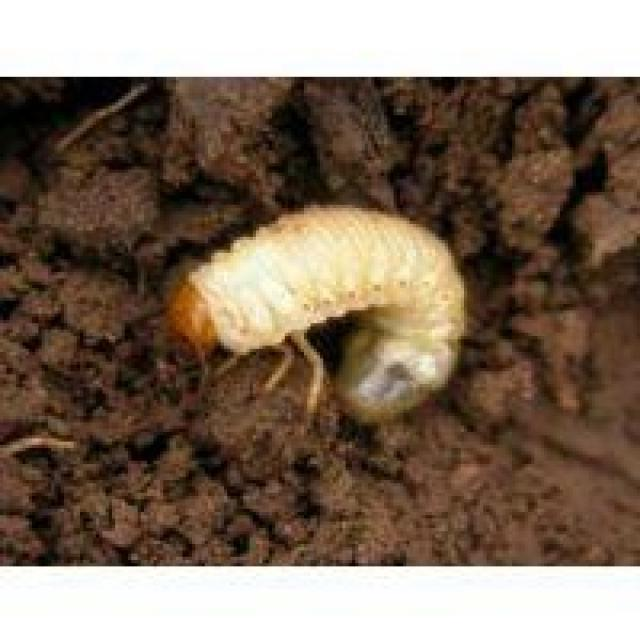grub: (166, 201, 476, 428)
